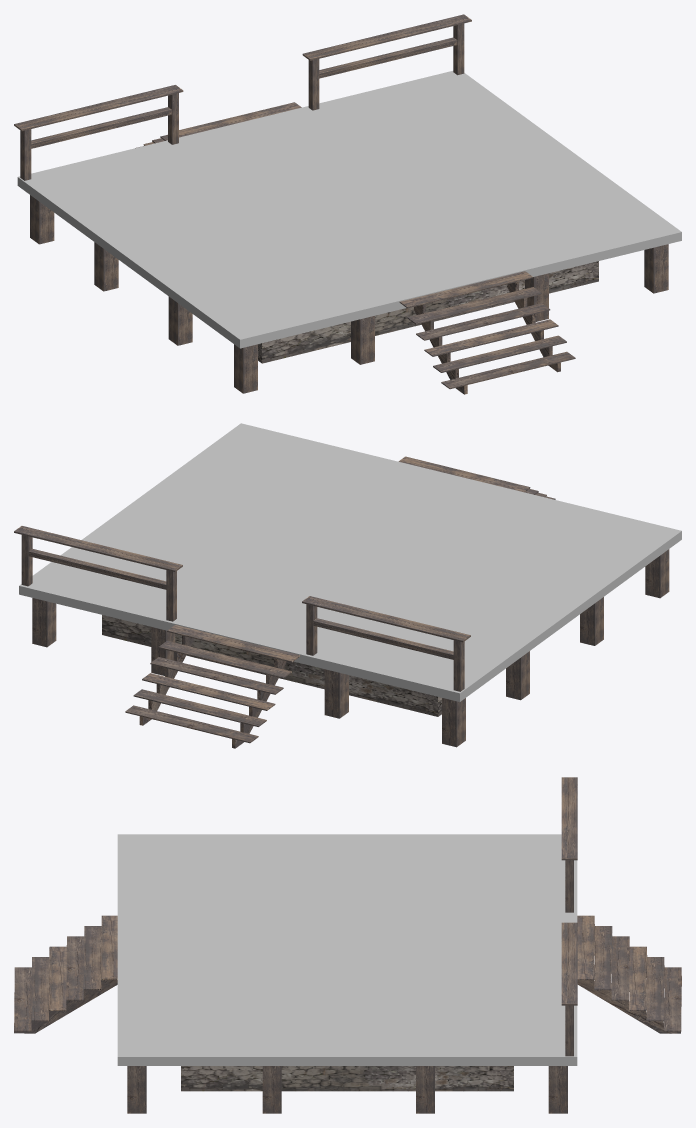
File: Exterior floor.FBX
The picture shows the model from 3 angles, top to bottom: view 1: azimuth 30°, elevation 25°; view 2: azimuth 150°, elevation 25°; view 3: azimuth 270°, elevation 25°; orthographic projection. The views are drawn at different scales.
Parts seen in each view (by area): view 1: exterior floor; view 2: exterior floor; view 3: exterior floor.
Part boxes in pixels (bbox=[...]): exterior floor: bbox=[14, 14, 681, 394]; exterior floor: bbox=[14, 423, 681, 748]; exterior floor: bbox=[14, 777, 681, 1113].
Bounding box in the file's own units: 858 × 208 × 1067.
